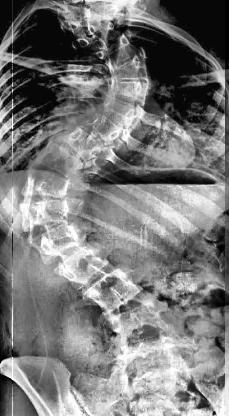Vertebrae: (110, 300, 170, 338), (124, 368, 193, 396), (117, 338, 184, 366), (88, 272, 138, 308), (29, 226, 81, 256), (59, 128, 109, 158), (22, 173, 78, 199), (36, 146, 84, 176), (56, 254, 104, 284), (102, 54, 156, 80), (19, 201, 72, 227), (100, 39, 146, 63), (87, 116, 127, 142), (106, 80, 151, 102), (104, 103, 142, 121)
